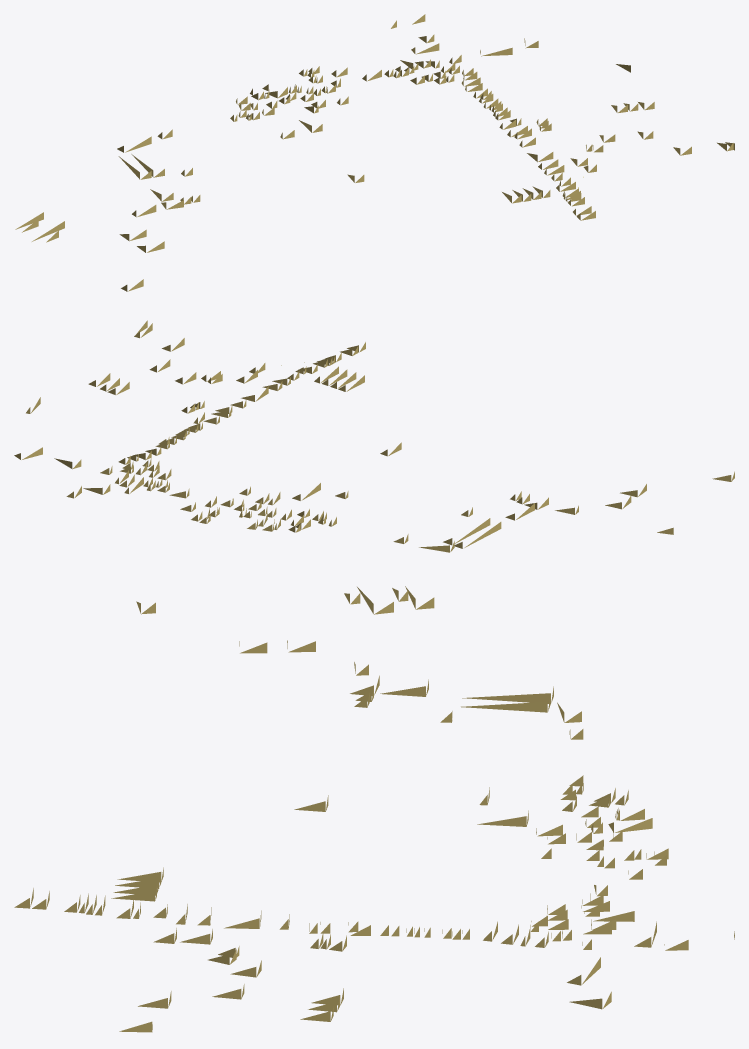
3 renders of one model, top to bottom at view 1: azimuth 30°, elevation 25°; view 2: azimuth 150°, elevation 25°; view 3: azimuth 270°, elevation 25°, orthographic. The views are drawn at different scales.
Size of the model in its own units: 663 by 7.5 by 450.
